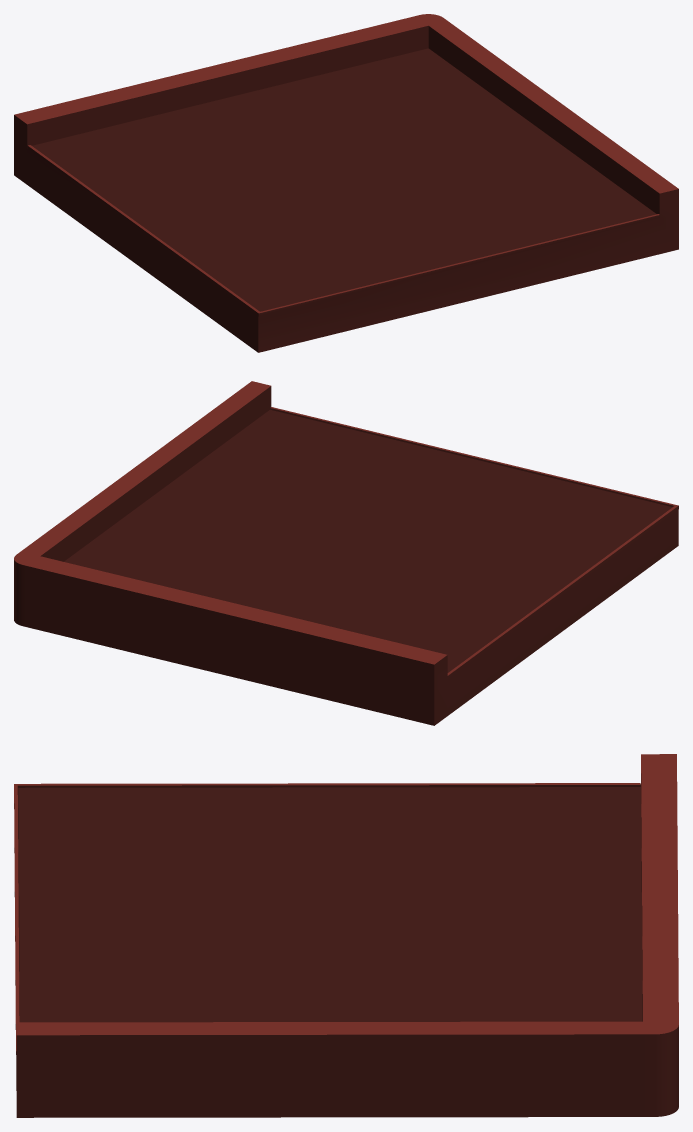
The model's file is Cupcake Tray Sort - Conveyor 1.fbx.
3 renders of one model, top to bottom at view 1: azimuth 30°, elevation 25°; view 2: azimuth 150°, elevation 25°; view 3: azimuth 270°, elevation 25°, orthographic. The views are drawn at different scales.
Parts seen in each view (by area): view 1: conveyor 1; view 2: conveyor 1; view 3: conveyor 1.
Part boxes in pixels (x1,y1,x2,y2): conveyor 1: [14, 14, 678, 352]; conveyor 1: [14, 381, 678, 725]; conveyor 1: [14, 754, 678, 1117].
Bounding box in the file's own units: 0.0601 × 0.0601 × 0.00824.
